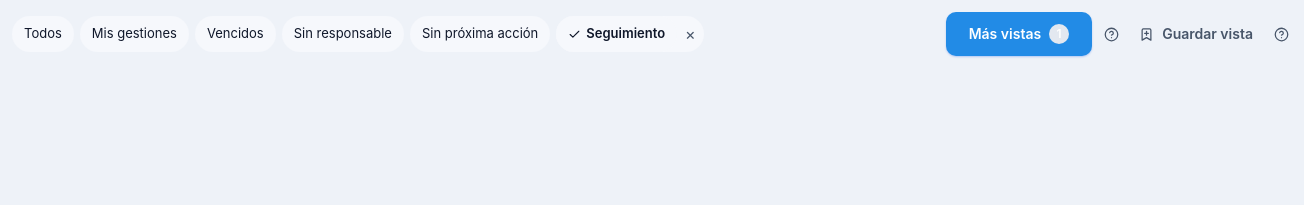
Test: ManagementViewTabs › moves configured unpinned quick views into More views
expect the button "Para hoy" is not shown: met
Click the button with aria-label "Abrir más vistas".
click(1019, 34)  # box [946,12,1092,56]
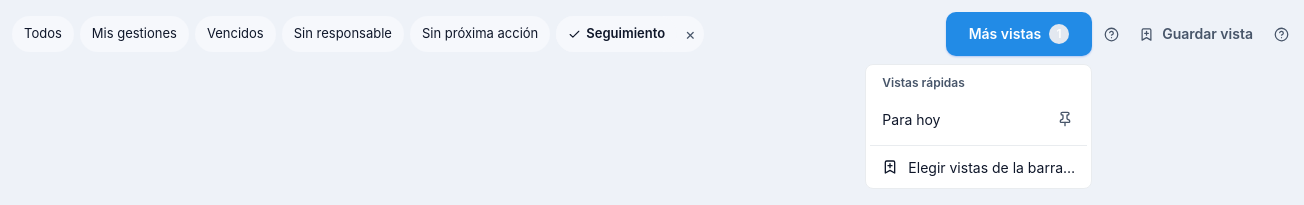
expect the text "Para hoy" is shown: met, box [882,110,940,128]
